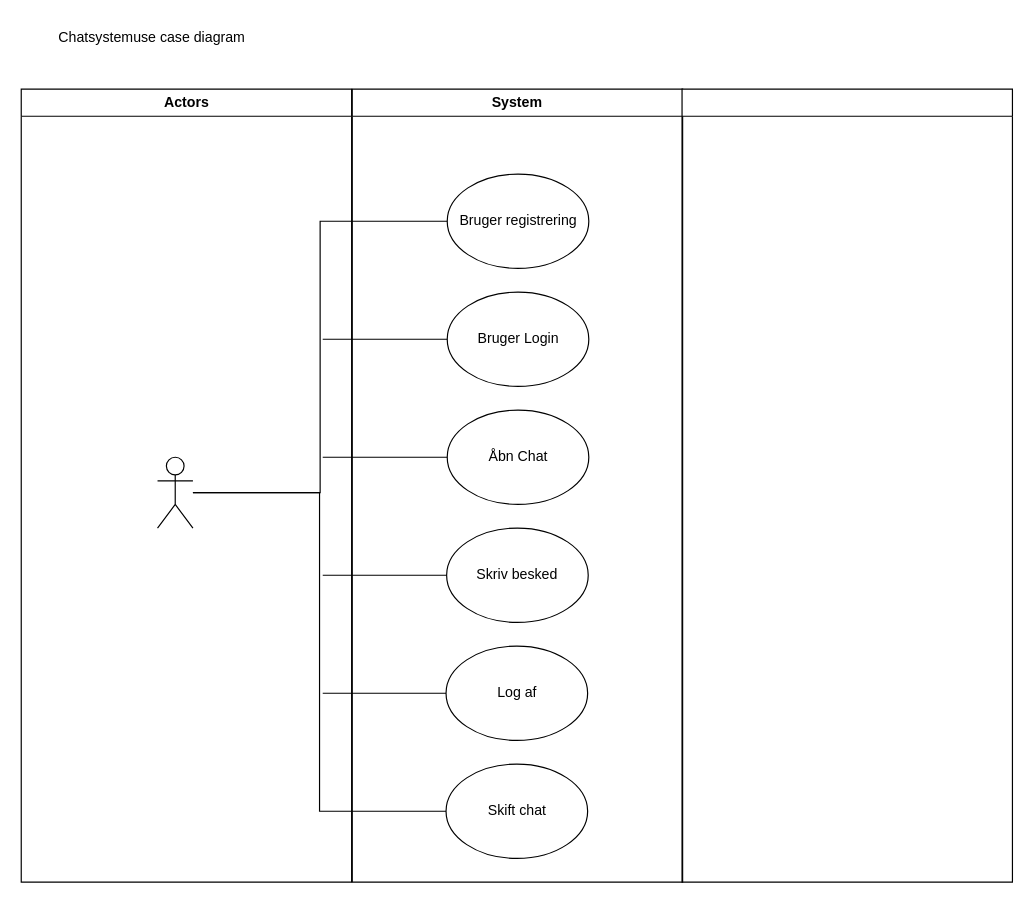
This 1033x903 diagram has some shape labels left out. The shapes that lost their labels are listed below. From the top down, each one's centre as x and y in pixels, then its label:
At (174,492): "Kunde".
At (846,485): "External".
